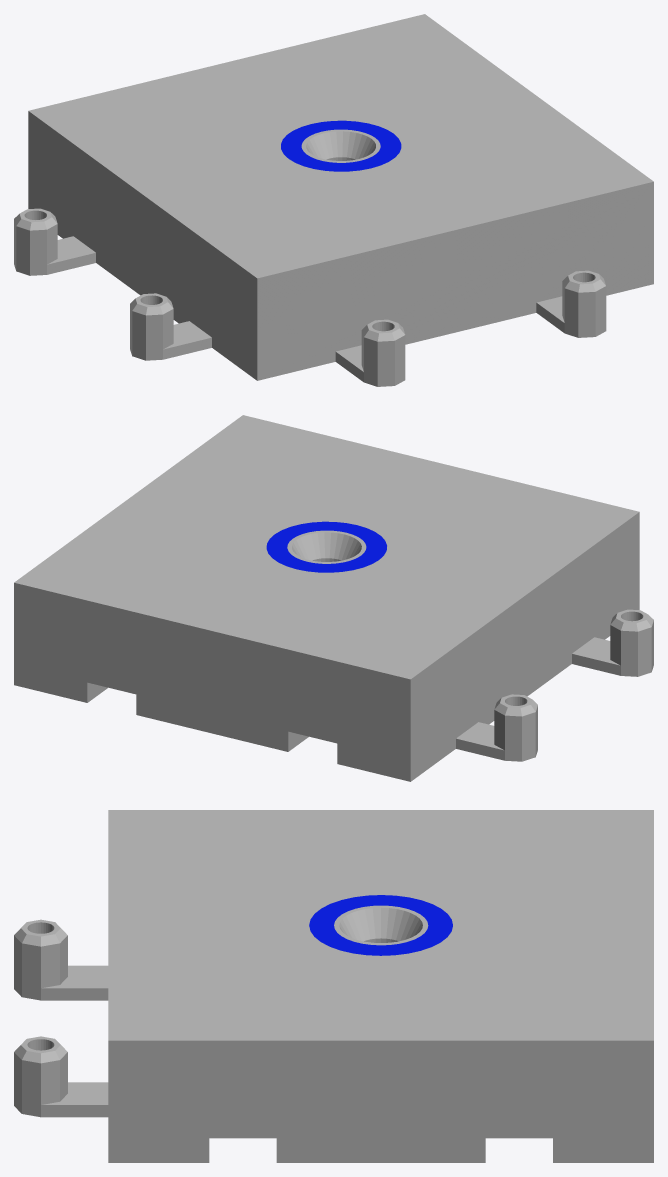
The model's file is gears-Baseplate.glb.
3 renders of one model, top to bottom at view 1: azimuth 30°, elevation 25°; view 2: azimuth 150°, elevation 25°; view 3: azimuth 270°, elevation 25°, orthographic. The views are drawn at different scales.
Visible parts, largest first — view 1: BasePlate.002; view 2: BasePlate.002; view 3: BasePlate.002.
Boxes of the visible parts, box(x1,y1,x2,y2) form: BasePlate.002: box(14, 14, 653, 386); BasePlate.002: box(14, 415, 653, 781); BasePlate.002: box(14, 810, 653, 1162).
Bounding box in the file's own units: 0.095 × 0.02 × 0.095.
